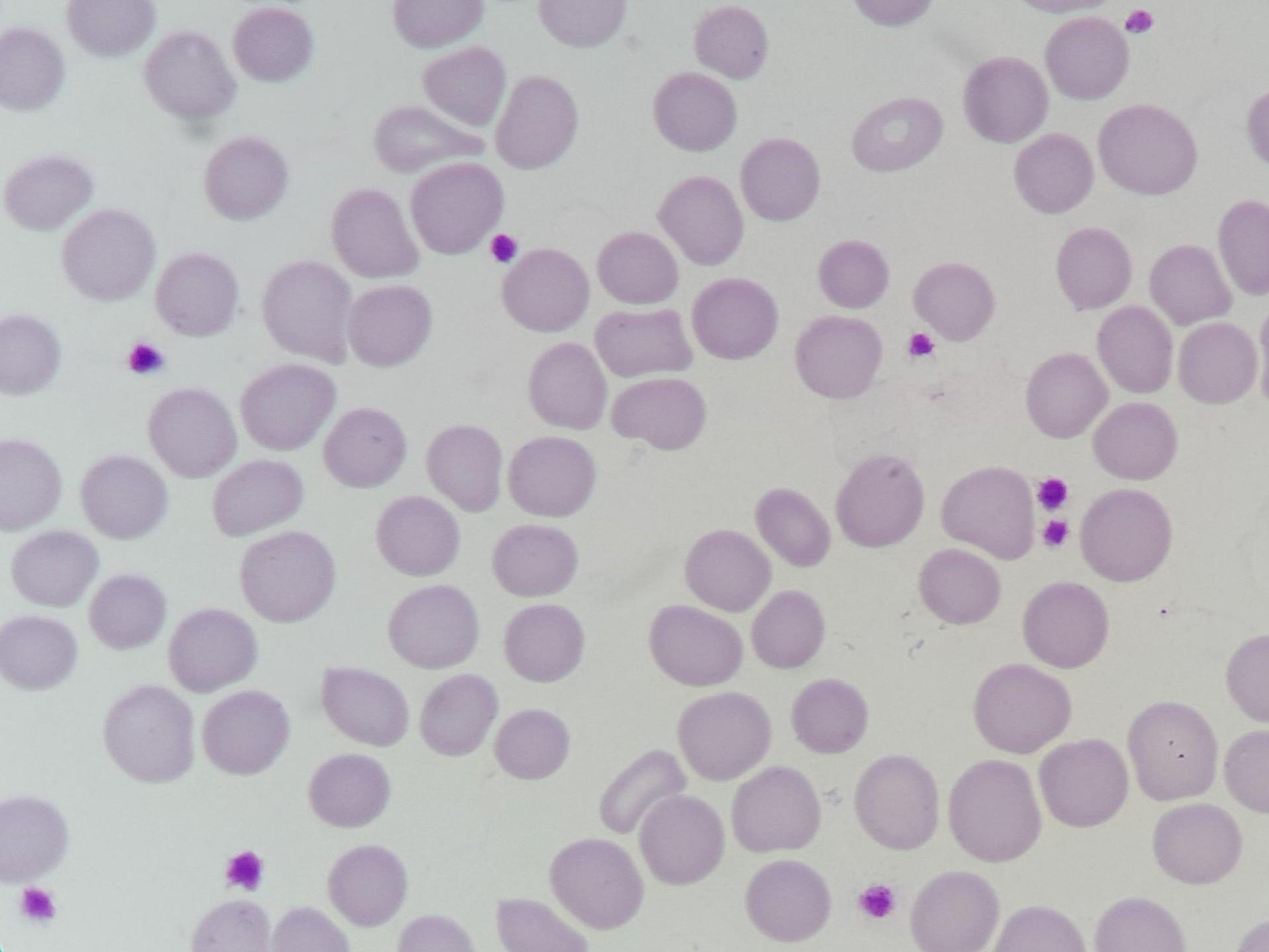Uninfected: (1126, 702, 1220, 801), (947, 760, 1040, 860), (262, 261, 356, 359), (239, 363, 338, 455), (237, 532, 334, 624), (1097, 105, 1195, 196), (102, 686, 194, 782), (974, 663, 1071, 754), (61, 209, 156, 301), (548, 839, 644, 930), (1079, 488, 1169, 585), (411, 161, 506, 252), (942, 470, 1038, 558), (854, 756, 941, 851), (637, 793, 726, 885), (331, 190, 421, 280), (835, 457, 924, 548), (149, 389, 240, 478), (731, 766, 820, 856), (677, 690, 768, 778), (494, 77, 581, 168), (649, 604, 744, 686), (1038, 740, 1127, 827), (170, 608, 260, 694), (146, 32, 236, 118), (202, 690, 290, 777), (388, 585, 479, 669), (1151, 801, 1242, 885), (499, 248, 589, 331), (213, 458, 306, 538), (658, 178, 744, 264), (423, 45, 512, 128), (1028, 351, 1110, 441), (321, 667, 411, 749), (81, 456, 168, 540), (683, 529, 771, 612), (745, 860, 833, 943), (795, 318, 884, 400), (508, 437, 597, 519), (154, 253, 239, 338), (1024, 583, 1108, 669), (377, 494, 464, 577), (910, 873, 1001, 952), (611, 377, 705, 453), (205, 137, 290, 221), (963, 58, 1048, 142), (10, 529, 98, 610), (347, 285, 431, 369), (526, 342, 608, 428), (324, 408, 410, 490), (1149, 244, 1233, 327), (912, 263, 997, 345), (425, 426, 506, 512), (594, 306, 689, 379), (1175, 321, 1257, 405), (600, 750, 682, 834), (377, 106, 479, 173), (327, 846, 408, 930), (692, 278, 777, 358), (493, 523, 581, 600), (5, 156, 92, 233), (1046, 18, 1129, 98), (1096, 306, 1174, 391), (503, 604, 586, 683), (653, 73, 737, 151), (308, 752, 392, 830), (1097, 399, 1177, 480), (740, 139, 820, 220), (853, 100, 942, 172), (1015, 133, 1095, 213), (918, 549, 1001, 626), (1056, 227, 1132, 311), (87, 573, 168, 651), (597, 231, 680, 307), (420, 675, 499, 754), (754, 488, 832, 568), (750, 590, 828, 669), (0, 616, 77, 692), (0, 797, 67, 883), (792, 678, 867, 754), (234, 9, 314, 80), (0, 441, 63, 528), (493, 710, 569, 781), (817, 241, 893, 309), (0, 29, 63, 110), (694, 8, 766, 77), (496, 900, 586, 952), (0, 316, 59, 395), (67, 1, 153, 55), (1217, 200, 1269, 288), (1097, 901, 1186, 952), (190, 900, 270, 952), (394, 1, 482, 47), (539, 1, 623, 46)
